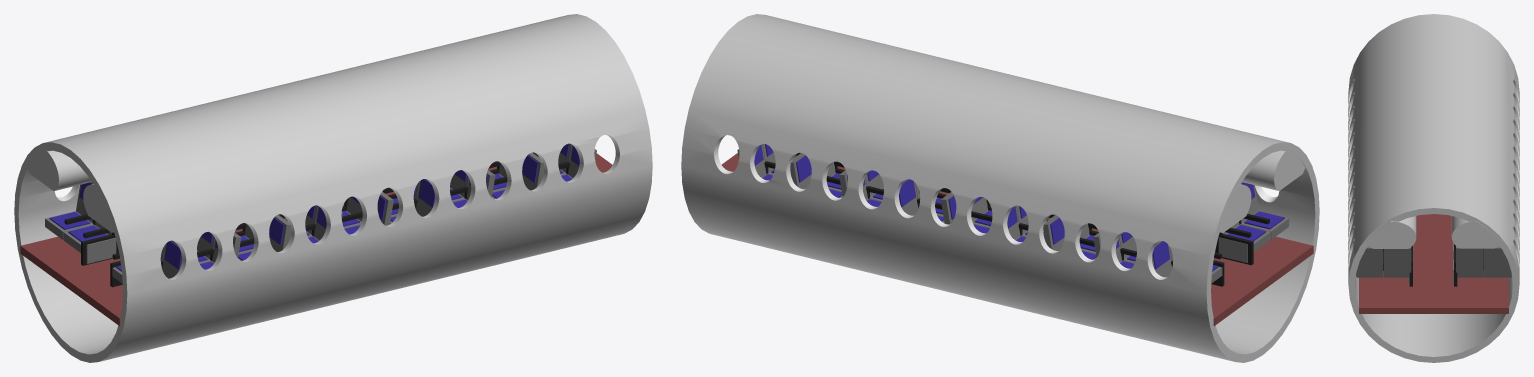
File: PrototypePlane.fbx
3 views of the same model, side by side, from view 1: azimuth 30°, elevation 25°; view 2: azimuth 150°, elevation 25°; view 3: azimuth 270°, elevation 25° (orthographic). The views are drawn at different scales.
Visible parts, largest first — view 1: Body_1, floor, Truck_9, Truck_2, Border_29; view 2: Body_1, floor, Truck_2, Truck_9, Border_2; view 3: Body_1, floor, Truck_8, Truck_3, back_36, back_17, back_35, back_18.
Part boxes in pixels (x1,y1,x2,y2): Body_1: (14, 14, 652, 362); floor: (20, 153, 612, 325); Truck_9: (26, 146, 89, 190); Truck_2: (83, 184, 113, 232); Border_29: (86, 237, 116, 263); Body_1: (681, 14, 1319, 362); floor: (721, 153, 1313, 325); Truck_2: (1242, 150, 1304, 190); Truck_9: (1218, 184, 1251, 232); Border_2: (1218, 237, 1247, 262); Body_1: (1348, 14, 1519, 362); floor: (1359, 214, 1508, 313); Truck_8: (1451, 216, 1501, 248); Truck_3: (1366, 217, 1416, 248); back_36: (1456, 246, 1483, 277); back_17: (1383, 247, 1411, 277); back_35: (1484, 246, 1511, 277); back_18: (1356, 246, 1382, 277).
Size of the model in its own units: 700 by 260 by 260.
